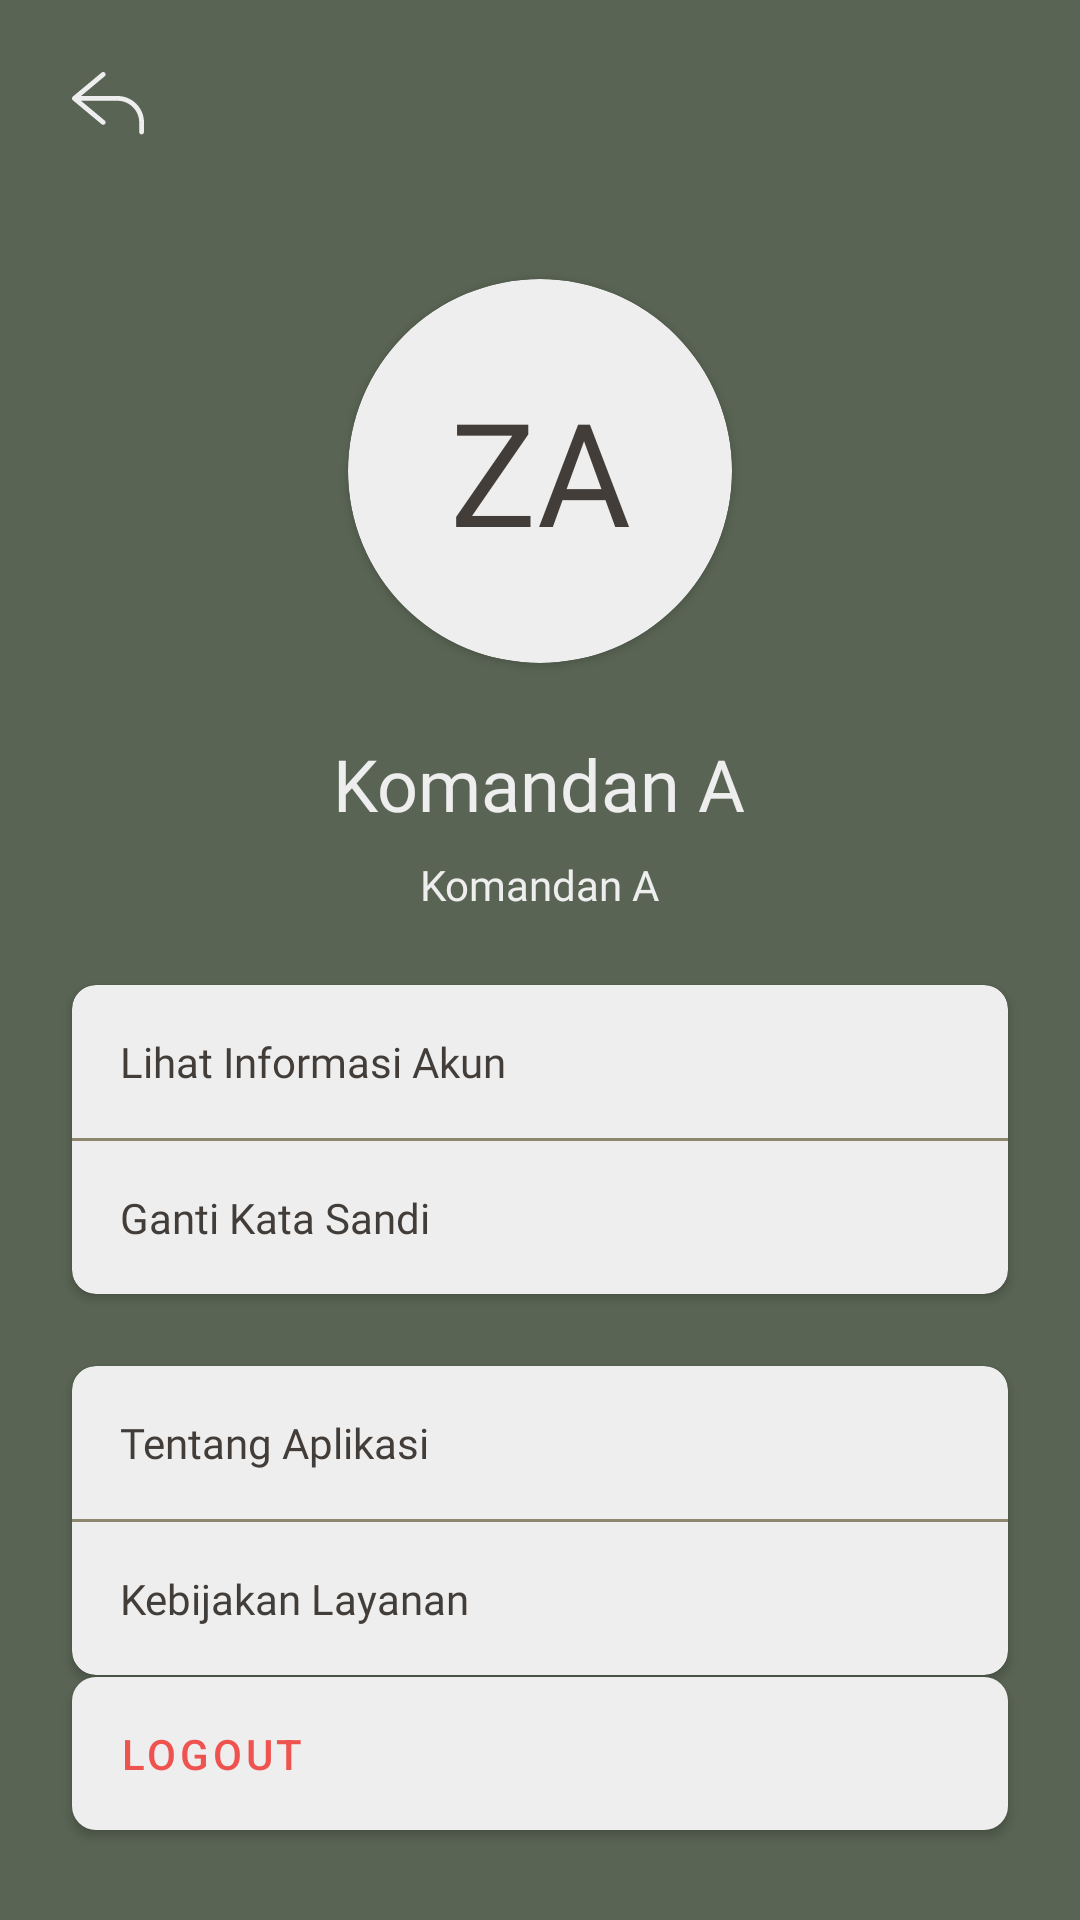

Where icons sit on this 1080w x 1920h app screen, as [x1=x1, y1=y1, x2=x2, y2=y2]:
back: [x1=72, y1=72, x2=144, y2=135]
